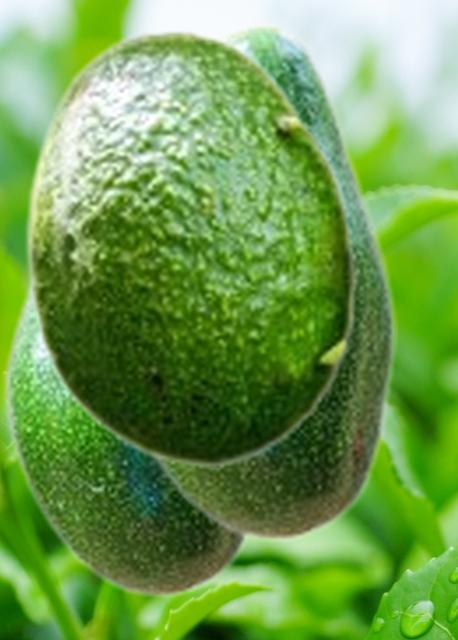avocado: (22, 29, 358, 468), (143, 21, 396, 543), (1, 277, 253, 599)
